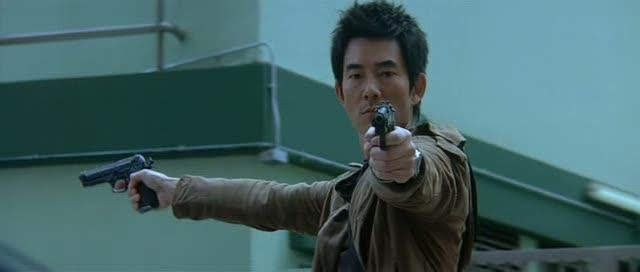gun: (70, 139, 175, 222), (367, 100, 407, 168)
